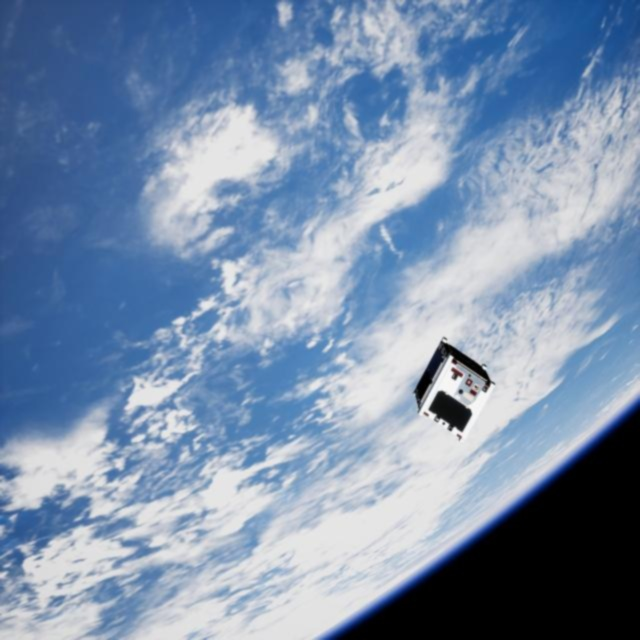satellite: (405, 334, 491, 437)
